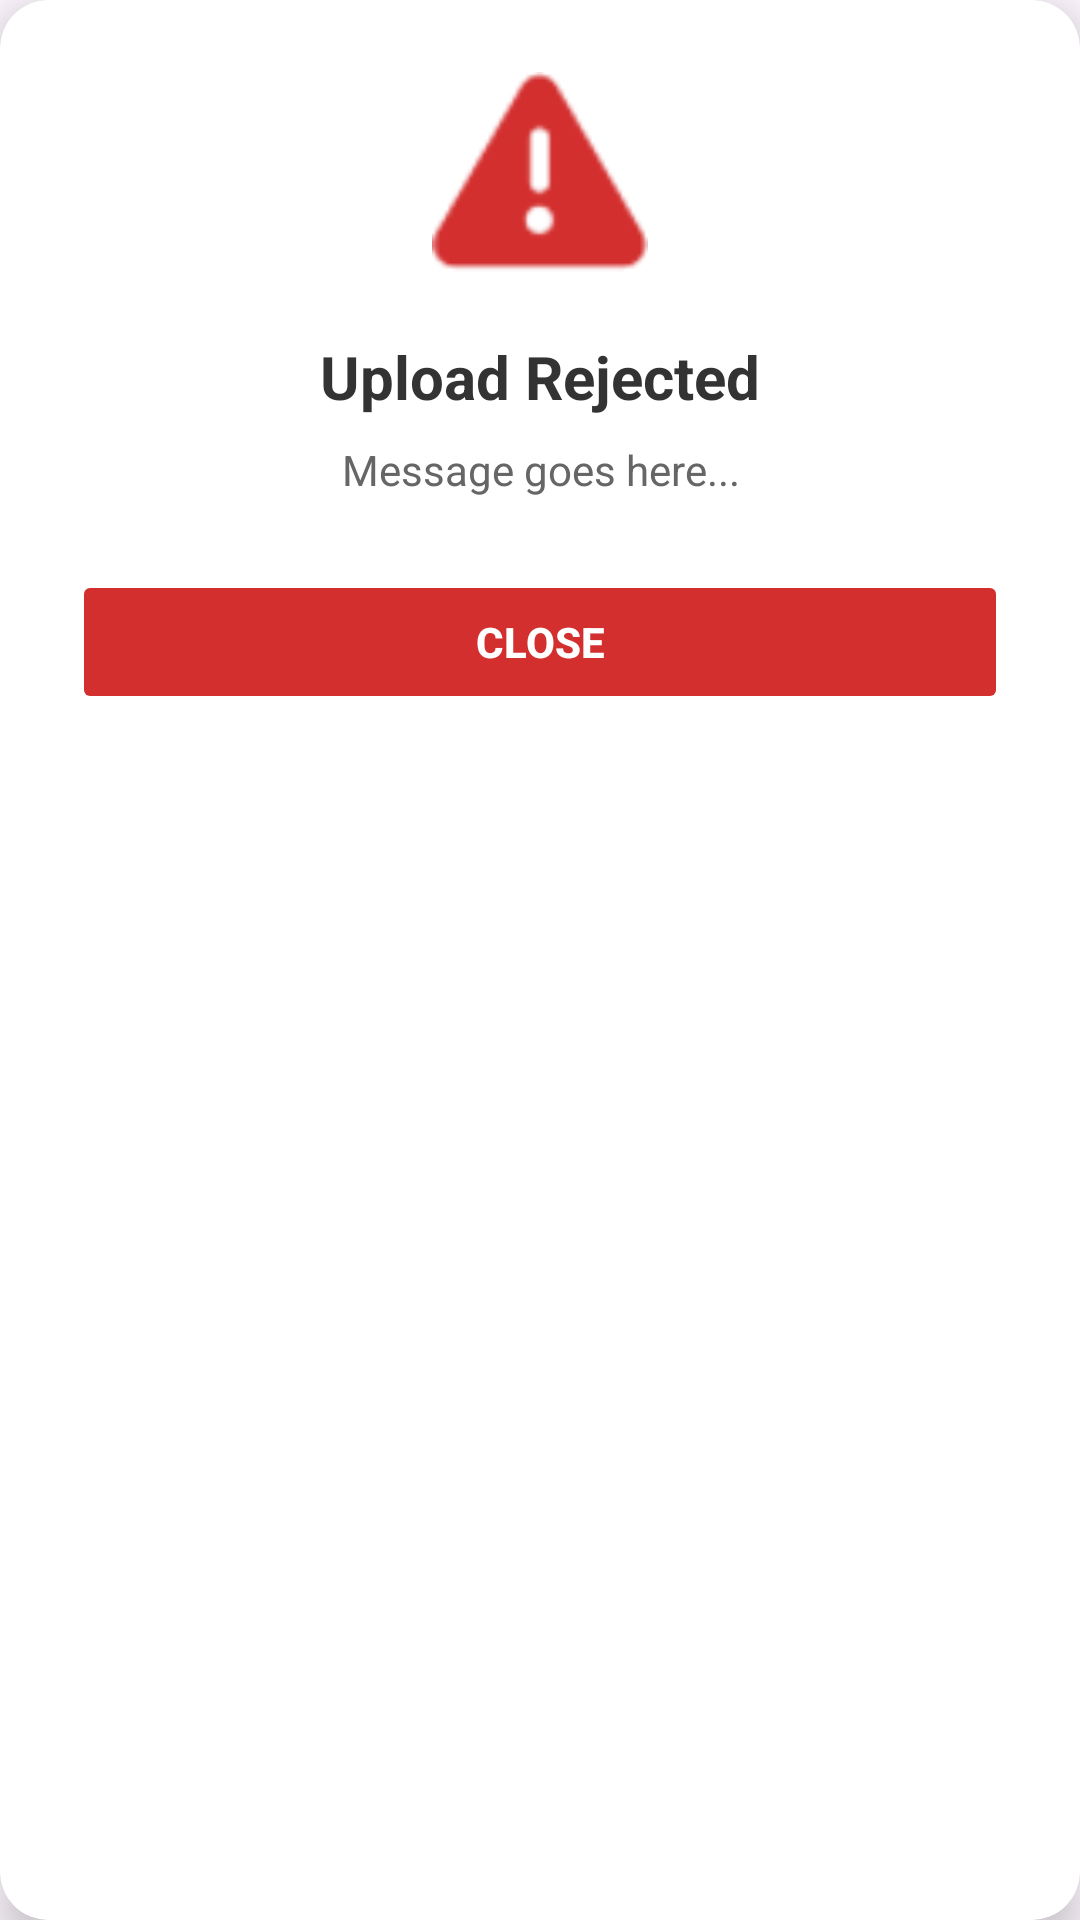

Named icons in this screenshot (1080x1920) and their centers, [x,y]:
alert: [540,170]
